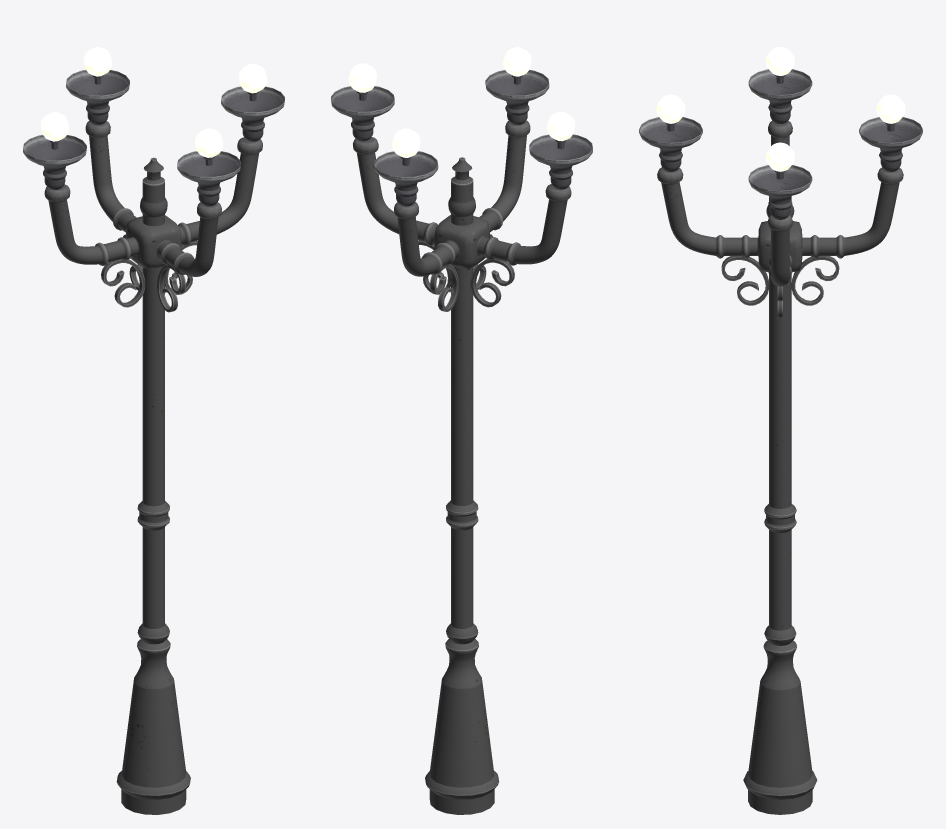
The model's file is lamp3.glb.
3 views of the same model, side by side, from view 1: azimuth 30°, elevation 25°; view 2: azimuth 150°, elevation 25°; view 3: azimuth 270°, elevation 25° (orthographic).
Visible parts, largest first — view 1: pole_4side_01_pole_4side_1_0, polySurface2_lamp_04_0.003, polySurface2_lamp_04_0.002, polySurface2_lamp_04_0.001, polySurface2_lamp_04_0.004, polySurface1_lamp_04_0.001, polySurface1_lamp_04_0.003, polySurface1_lamp_04_0.004, polySurface1_lamp_04_0.002; view 2: pole_4side_01_pole_4side_1_0, polySurface2_lamp_04_0.001, polySurface2_lamp_04_0.003, polySurface2_lamp_04_0.004, polySurface2_lamp_04_0.002, polySurface1_lamp_04_0.001, polySurface1_lamp_04_0.004, polySurface1_lamp_04_0.003, polySurface1_lamp_04_0.002; view 3: pole_4side_01_pole_4side_1_0, polySurface2_lamp_04_0.001, polySurface2_lamp_04_0.002, polySurface2_lamp_04_0.003, polySurface2_lamp_04_0.004, polySurface1_lamp_04_0.001, polySurface1_lamp_04_0.002, polySurface1_lamp_04_0.004, polySurface1_lamp_04_0.003.
Boxes of the visible parts, <box> form: pole_4side_01_pole_4side_1_0: <box>44,121,262,814</box>; polySurface2_lamp_04_0.003: <box>221,86,284,141</box>; polySurface2_lamp_04_0.002: <box>177,151,240,206</box>; polySurface2_lamp_04_0.001: <box>66,70,129,124</box>; polySurface2_lamp_04_0.004: <box>23,135,86,189</box>; polySurface1_lamp_04_0.001: <box>83,47,112,84</box>; polySurface1_lamp_04_0.003: <box>238,63,267,101</box>; polySurface1_lamp_04_0.004: <box>40,112,69,149</box>; polySurface1_lamp_04_0.002: <box>194,128,223,165</box>; pole_4side_01_pole_4side_1_0: <box>353,120,571,814</box>; polySurface2_lamp_04_0.001: <box>374,151,438,206</box>; polySurface2_lamp_04_0.003: <box>331,86,394,141</box>; polySurface2_lamp_04_0.004: <box>529,134,592,189</box>; polySurface2_lamp_04_0.002: <box>485,70,549,124</box>; polySurface1_lamp_04_0.001: <box>392,128,420,165</box>; polySurface1_lamp_04_0.004: <box>546,111,575,149</box>; polySurface1_lamp_04_0.003: <box>348,63,377,100</box>; polySurface1_lamp_04_0.002: <box>503,47,531,84</box>; pole_4side_01_pole_4side_1_0: <box>657,120,903,814</box>; polySurface2_lamp_04_0.001: <box>859,117,922,171</box>; polySurface2_lamp_04_0.002: <box>639,117,702,171</box>; polySurface2_lamp_04_0.003: <box>748,165,812,219</box>; polySurface2_lamp_04_0.004: <box>748,69,812,123</box>; polySurface1_lamp_04_0.001: <box>876,94,905,131</box>; polySurface1_lamp_04_0.002: <box>656,94,685,131</box>; polySurface1_lamp_04_0.004: <box>765,46,794,83</box>; polySurface1_lamp_04_0.003: <box>765,142,794,179</box>.
Bounding box in the file's own units: 1.92 × 5.05 × 1.88.
2 materials, 2 textured.
